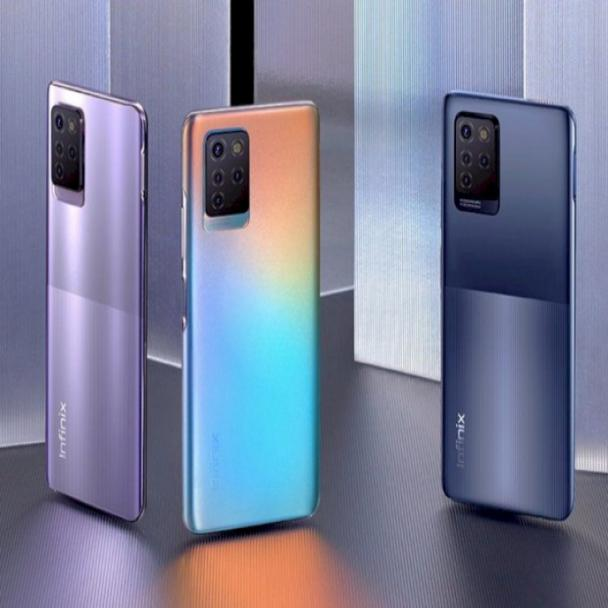Handphone: (441, 91, 578, 523), (183, 102, 320, 533), (44, 75, 147, 519)
